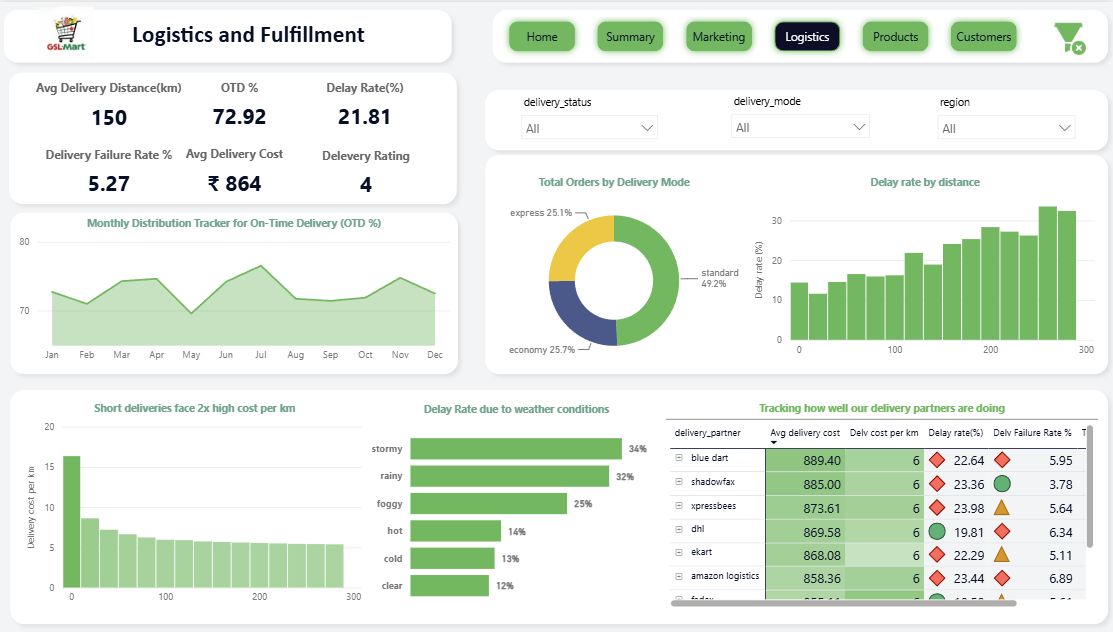

What the dashboard file says about the page in this screenshot:
{"tool":"powerbi","page":{"name":"Logistics","canvas":[1280,720],"ordinal":3},"visuals":[{"type":"shape","box":[7.1,434.3,1272.9,285.7],"z":0},{"type":"shape","box":[7.1,231.4,530,202.9],"z":1000},{"type":"shape","box":[550,91.4,730,87.1],"z":2000},{"type":"shape","box":[549.7,165.6,730.1,268.7],"z":3000},{"type":"shape","box":[5.7,71.4,530,168.6],"z":4000},{"type":"shape","box":[0,0,529.9,78.4],"z":5000},{"type":"cardVisual","title":"Avg Delivery Distance(Km)","fields":{"Data":["Supply Chain Measures.Avg Delivery Distance(km)"]},"box":[0,72.9,258.6,90],"z":6000},{"type":"shape","box":[558.5,0,721.5,78.4],"z":7000},{"type":"cardVisual","title":"Delivery Rating","fields":{"Data":["Supply Chain Measures.Delevery Rating"]},"box":[344.3,160,157.1,71.4],"z":8000},{"type":"cardVisual","fields":{"Data":["Supply Chain Measures.Avg Delivey Cost"]},"box":[182.8,142.3,179.1,101.8],"z":9000},{"type":"cardVisual","fields":{"Data":["Supply Chain Measures.Delay rate"]},"box":[334.3,71.4,175.7,91.4],"z":10000},{"type":"cardVisual","title":"Delivery Failure Rate (%)","fields":{"Data":["Supply Chain Measures.Delivery Failure Rate %"]},"box":[31.4,150,195.7,88.6],"z":11000},{"type":"cardVisual","fields":{"Data":["Supply Chain Measures.OTD %"]},"box":[201.4,68.6,154.3,97.1],"z":12000},{"type":"donutChart","title":"Total Orders by Delivery Mode","fields":{"Category":["Fact_delivery.delivery_mode"],"Y":["CountNonNull(Fact_delivery.delivery_status)"]},"box":[549.7,197.5,312.9,227],"z":13000},{"type":"slicer","fields":{"Values":["Fact_delivery.delivery_status"]},"box":[590.2,101.8,176.7,69.9],"z":14000},{"type":"slicer","fields":{"Values":["Fact_delivery.delivery_mode"]},"box":[829.5,100.6,179.1,69.9],"z":15000},{"type":"slicer","fields":{"Values":["Dim_Geography.region"]},"box":[1066.3,101.8,177.9,69.9],"z":16000},{"type":"pivotTable","title":"Tracking how well our delivery partners are doing","fields":{"Rows":["Dim_Logistics_Partners.delivery_partner","Fact_delivery.delivery_mode"],"Values":["Avg(Fact_delivery.delivery_cost)","Logistics.Delivery cost per km","Logistics.Delay rate","Logistics.Delivery Failure Rate %","Logistics.Total Deliveries"]},"box":[766.2,456.2,493.8,240],"z":17000},{"type":"clusteredColumnChart","title":"Delay rate by distance","fields":{"Category":["Fact_delivery.distance_km (bins)"],"Y":["Supply Chain Measures.Delay rate"]},"box":[862.6,197.5,397.5,217.2],"z":18000},{"type":"columnChart","title":"Short deliveries face 2x high cost per km","fields":{"Category":["Fact_delivery.distance_km (bins)"],"Y":["Logistics.Delivery cost per km"]},"box":[31.9,455.2,391.4,241.7],"z":19000},{"type":"clusteredBarChart","title":"Delay Rate due to weather conditions","fields":{"Category":["Fact_delivery.weather_condition"],"Y":["Logistics.Delay rate"]},"box":[423.3,456.4,343.6,240.5],"z":20000},{"type":"lineChart","title":"Monthly Distribution Tracker for On-Time Delivery (OTD %)","fields":{"Y":["Logistics.OTD %"],"Category":["Dim_Calendar.MonthName"]},"box":[21.4,244.3,501.4,175.7],"z":21000},{"type":"textbox","box":[128.8,15,320,53.8],"z":22000},{"type":"pageNavigator","box":[579.1,14.7,596.3,50.3],"z":23000},{"type":"image","box":[1192.5,15,65,50],"z":24000},{"type":"image","box":[21.2,0,118.8,72.5],"z":25000}]}

Visuals, with their boxes in screenshot pixels (x1, y1, x2, y2), scaled from the page's 1280x720 canvas onto the 1113x632 screenshot:
shape: [x1=6, y1=381, x2=1112, y2=631]
shape: [x1=6, y1=203, x2=467, y2=381]
shape: [x1=478, y1=80, x2=1112, y2=157]
shape: [x1=478, y1=145, x2=1112, y2=381]
shape: [x1=5, y1=63, x2=466, y2=211]
shape: [x1=0, y1=0, x2=461, y2=69]
"Avg Delivery Distance(Km)" cardVisual: [x1=0, y1=64, x2=225, y2=143]
shape: [x1=486, y1=0, x2=1112, y2=69]
"Delivery Rating" cardVisual: [x1=299, y1=140, x2=436, y2=203]
cardVisual - Supply Chain Measures.Avg Delivey Cost: [x1=159, y1=125, x2=315, y2=214]
cardVisual - Supply Chain Measures.Delay rate: [x1=291, y1=63, x2=443, y2=143]
"Delivery Failure Rate (%)" cardVisual: [x1=27, y1=132, x2=197, y2=209]
cardVisual - Supply Chain Measures.OTD %: [x1=175, y1=60, x2=309, y2=145]
"Total Orders by Delivery Mode" donutChart: [x1=478, y1=173, x2=750, y2=373]
slicer - Fact_delivery.delivery_status: [x1=513, y1=89, x2=667, y2=151]
slicer - Fact_delivery.delivery_mode: [x1=721, y1=88, x2=877, y2=150]
slicer - Dim_Geography.region: [x1=927, y1=89, x2=1082, y2=151]
"Tracking how well our delivery partners are doing" pivotTable: [x1=666, y1=400, x2=1096, y2=611]
"Delay rate by distance" clusteredColumnChart: [x1=750, y1=173, x2=1096, y2=364]
"Short deliveries face 2x high cost per km" columnChart: [x1=28, y1=400, x2=368, y2=612]
"Delay Rate due to weather conditions" clusteredBarChart: [x1=368, y1=401, x2=667, y2=612]
"Monthly Distribution Tracker for On-Time Delivery (OTD %)" lineChart: [x1=19, y1=214, x2=455, y2=369]
textbox: [x1=112, y1=13, x2=390, y2=60]
pageNavigator: [x1=504, y1=13, x2=1022, y2=57]
image: [x1=1037, y1=13, x2=1093, y2=57]
image: [x1=18, y1=0, x2=122, y2=64]
